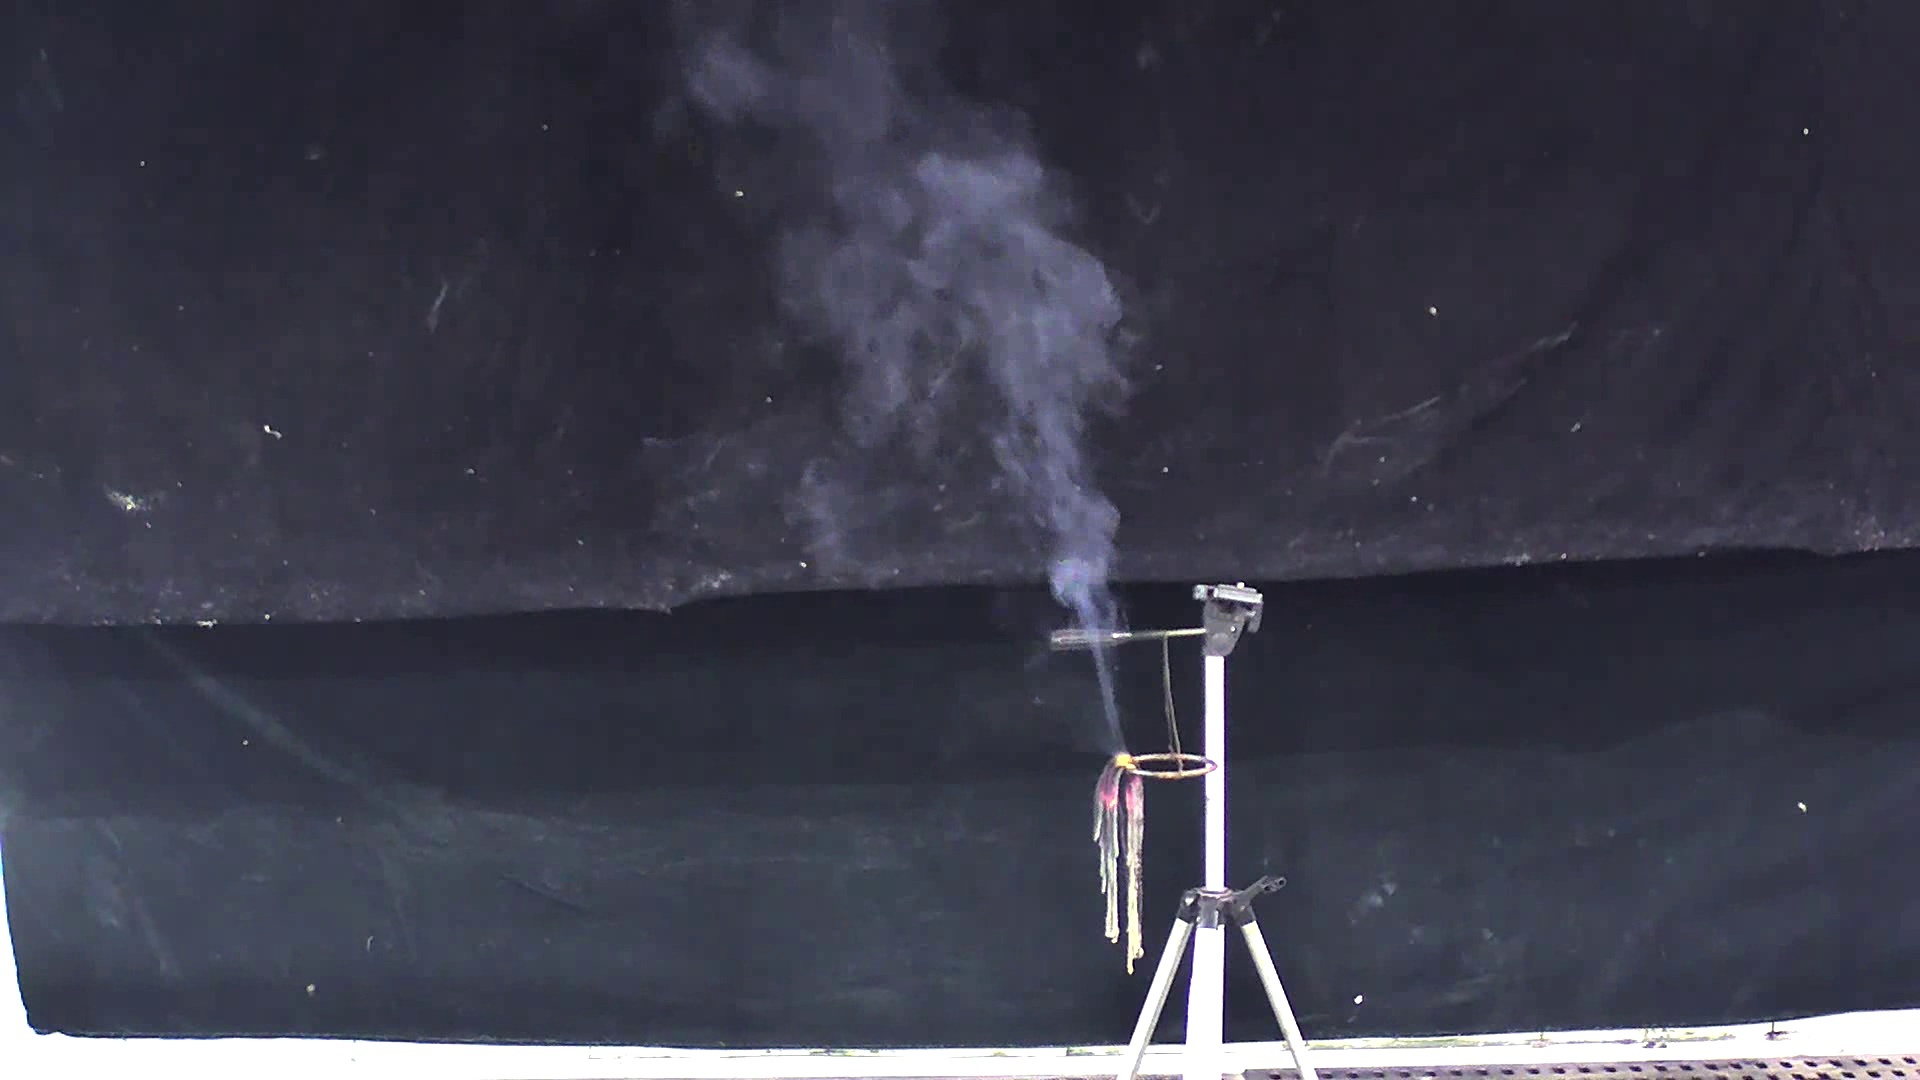smoke: (632, 20, 1158, 731)
